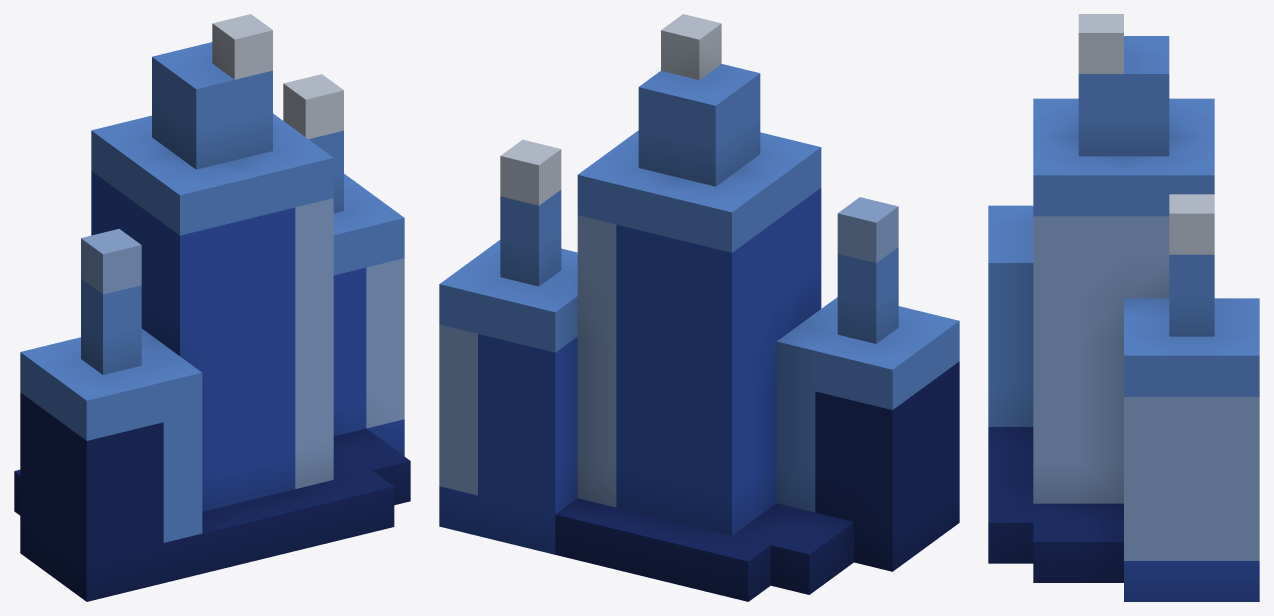
Rendered from sapphire_raw.glb.
3 renders of one model, left to right at view 1: azimuth 30°, elevation 25°; view 2: azimuth 150°, elevation 25°; view 3: azimuth 270°, elevation 25°, orthographic.
Visible parts, largest first — view 1: VoxelVisual; view 2: VoxelVisual; view 3: VoxelVisual.
Part boxes in pixels (box(x1,y1,x2,y2)): VoxelVisual: box(14, 14, 410, 601); VoxelVisual: box(439, 14, 959, 601); VoxelVisual: box(988, 14, 1259, 601).
Size of what is drawn, in the model's own units: 0.625 by 0.75 by 0.375.
